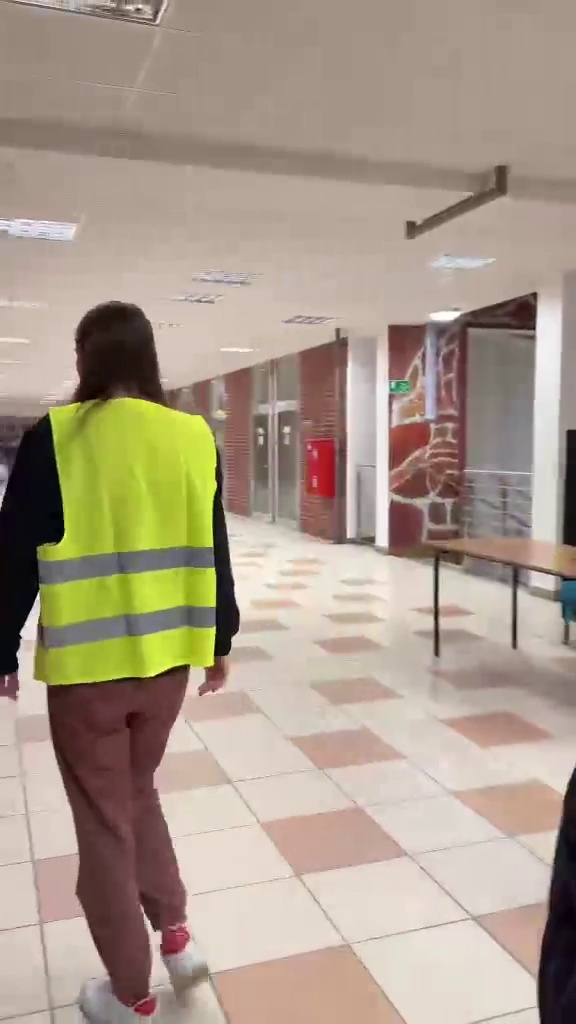vest: (4, 299, 247, 1003)
